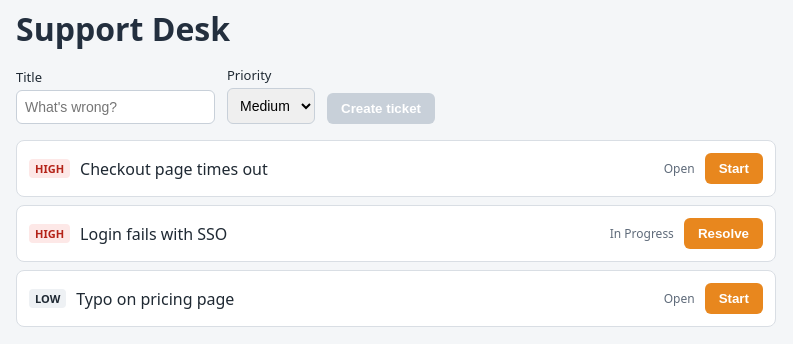
Test: <App /> › moves a ticket to In Progress when Start is clicked
expect the text "Checkout page times out" is shown: met, box x1=80 y1=158 x2=268 y2=180
Click the button "Start" in the row of "Checkout page times out" at {"x": 734, "y": 168}, box x1=705 y1=153 x2=763 y2=184
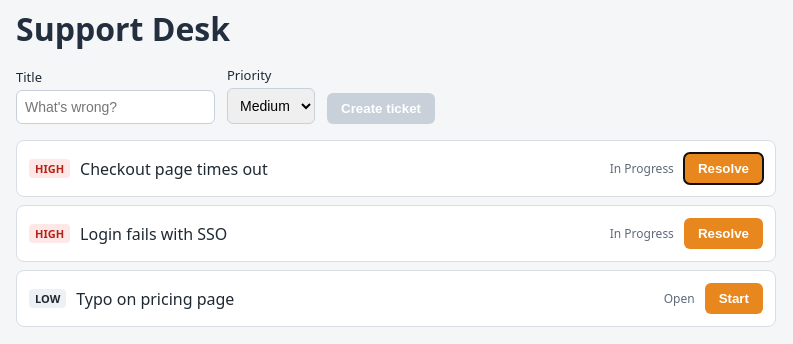
expect the text "In Progress" in the row of "Checkout page times out" is shown: met, box x1=610 y1=160 x2=674 y2=177
expect the button "Resolve" in the row of "Checkout page times out" is shown: met, box x1=684 y1=153 x2=763 y2=184
